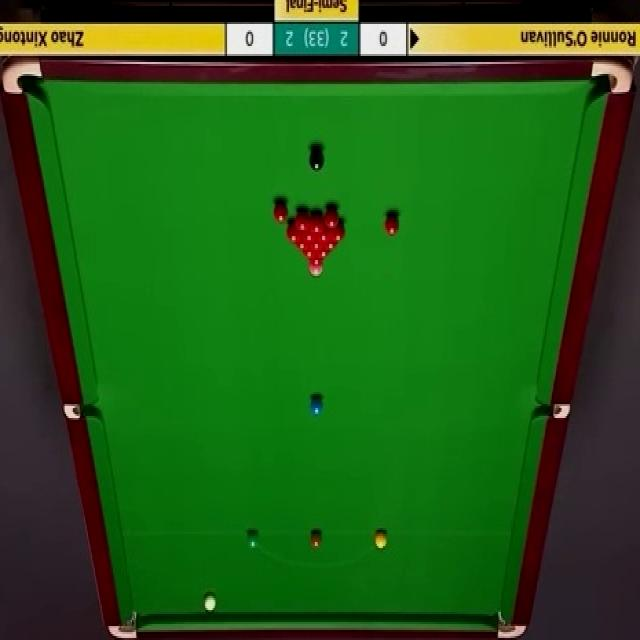black-ball: (309, 147, 325, 174)
blue-ball: (309, 394, 322, 416)
brown-ball: (310, 530, 322, 547)
green-ball: (247, 530, 258, 550)
pink-ball: (308, 264, 324, 281)
red-ball: (382, 210, 401, 236), (273, 198, 288, 225), (324, 205, 340, 228), (309, 211, 324, 235), (285, 223, 302, 243), (293, 209, 309, 230), (330, 222, 345, 243), (302, 224, 315, 242), (316, 228, 331, 243), (300, 248, 318, 258), (293, 240, 309, 251), (308, 258, 325, 268), (308, 240, 324, 250), (317, 249, 333, 258), (324, 239, 337, 250)
white-ball: (203, 591, 218, 615)
yellow-ball: (373, 530, 388, 551)
